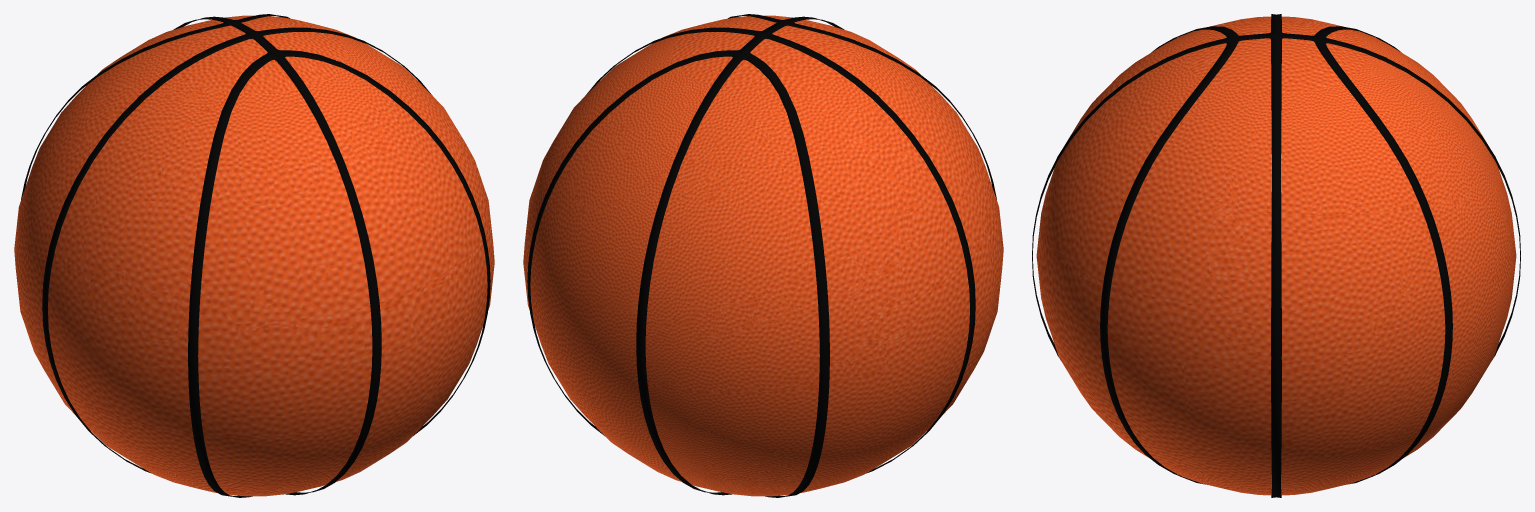
The model's file is Ball UV.fbx.
The picture shows the model from 3 angles, left to right: view 1: azimuth 30°, elevation 25°; view 2: azimuth 150°, elevation 25°; view 3: azimuth 270°, elevation 25°; orthographic projection.
Parts seen in each view (by area): view 1: Sphere, Ball.001; view 2: Sphere, Ball.001; view 3: Sphere, Ball.001.
Part boxes in pixels (x1,y1,x2,y2): Sphere: (14, 15, 494, 496); Ball.001: (21, 14, 490, 497); Sphere: (523, 15, 1003, 496); Ball.001: (527, 14, 996, 497); Sphere: (1036, 16, 1516, 495); Ball.001: (1032, 14, 1520, 497).
Bounding box in the file's own units: 23.53 × 23.77 × 23.85.
2 materials, 1 textured.
